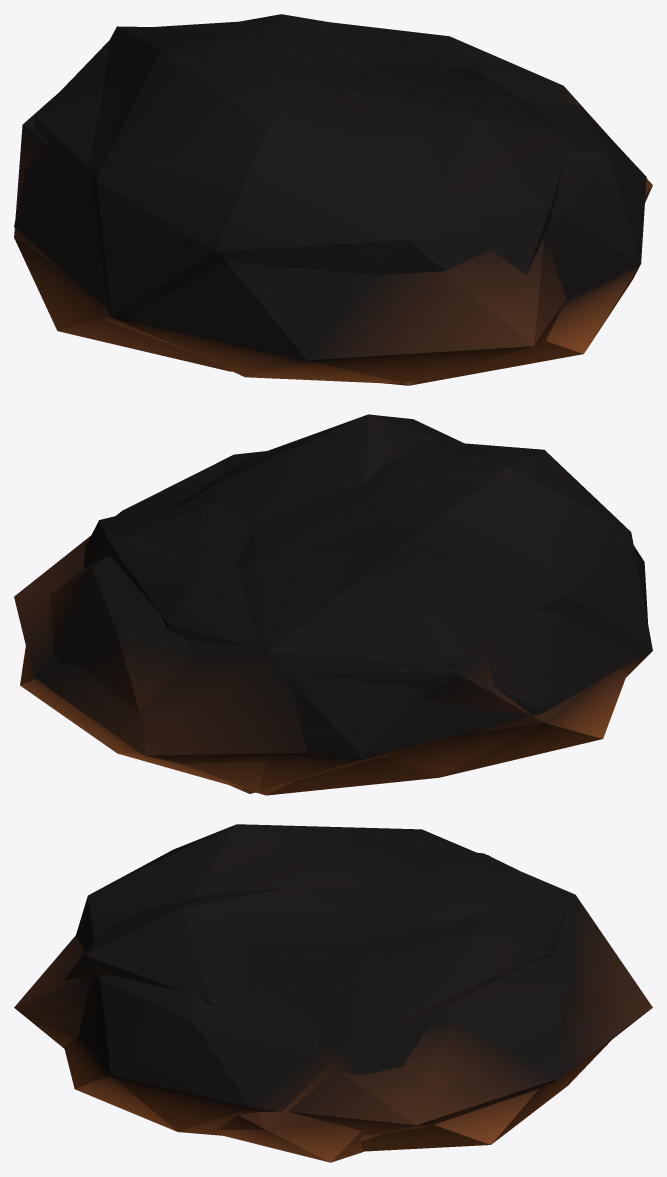
The model's file is lavarock.glb.
3 renders of one model, top to bottom at view 1: azimuth 30°, elevation 25°; view 2: azimuth 150°, elevation 25°; view 3: azimuth 270°, elevation 25°, orthographic. The views are drawn at different scales.
Visible parts, largest first — view 1: v1, v2, v0; view 2: v1, v2, v0; view 3: v1, v0, v2.
Part boxes in pixels (left/top/right/bottom): v1: left=88, top=26, right=646, bottom=385; v2: left=14, top=18, right=652, bottom=383; v0: left=14, top=14, right=572, bottom=371; v1: left=14, top=441, right=652, bottom=763; v2: left=83, top=502, right=647, bottom=793; v0: left=20, top=414, right=626, bottom=795; v1: left=64, top=824, right=652, bottom=1135; v0: left=64, top=855, right=618, bottom=1151; v2: left=14, top=852, right=566, bottom=1162.
Size of the model in its own units: 0.9318 by 0.3485 by 1.09.
